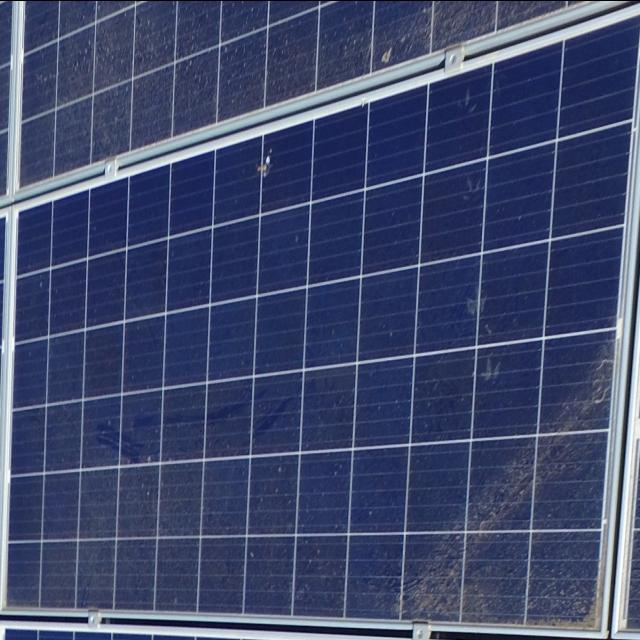Dust: (402, 368, 616, 634), (232, 0, 640, 89)
bird-droppings: (247, 114, 291, 202)
